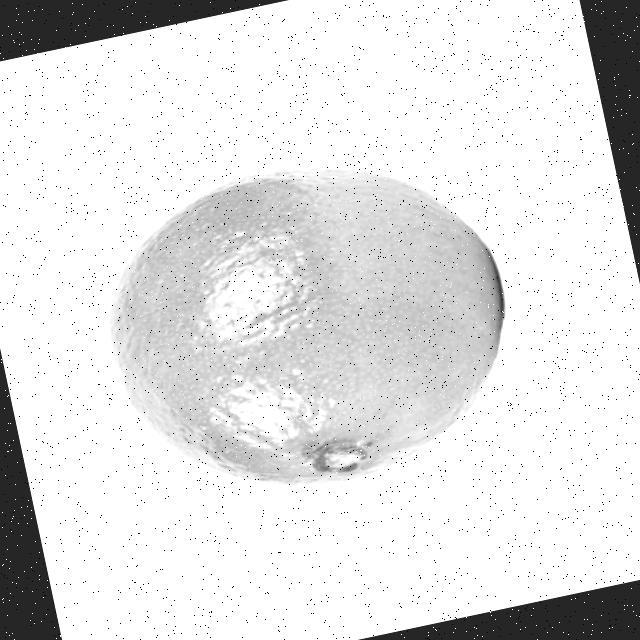Unripe: (79, 126, 532, 524)
